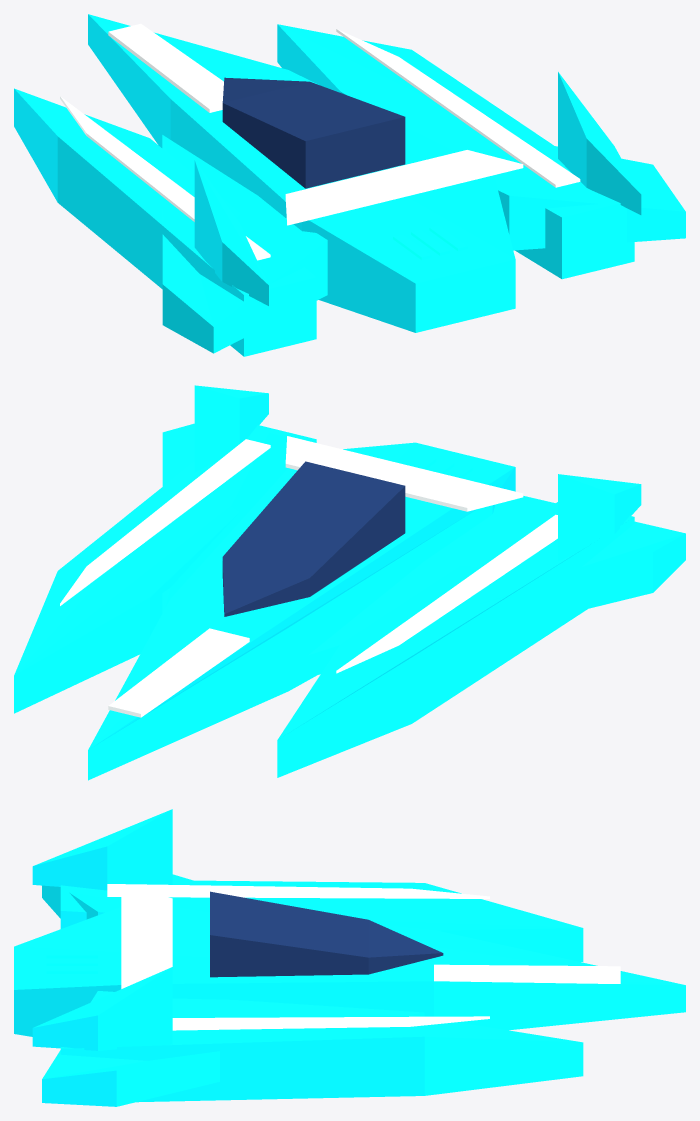
Rendered from hydrofoil-4.glb.
3 views of the same model, one above another, from view 1: azimuth 30°, elevation 25°; view 2: azimuth 150°, elevation 25°; view 3: azimuth 270°, elevation 25° (orthographic). The views are drawn at different scales.
Visible parts, largest first — view 1: BW-01 Split Delta; view 2: BW-01 Split Delta; view 3: BW-01 Split Delta.
Boxes of the visible parts, x1,y1,x2,y2 form: BW-01 Split Delta: (14, 14, 685, 356); BW-01 Split Delta: (14, 385, 685, 780); BW-01 Split Delta: (14, 809, 685, 1106).
Bounding box in the file's own units: 5.4 × 1.55 × 7.2.
